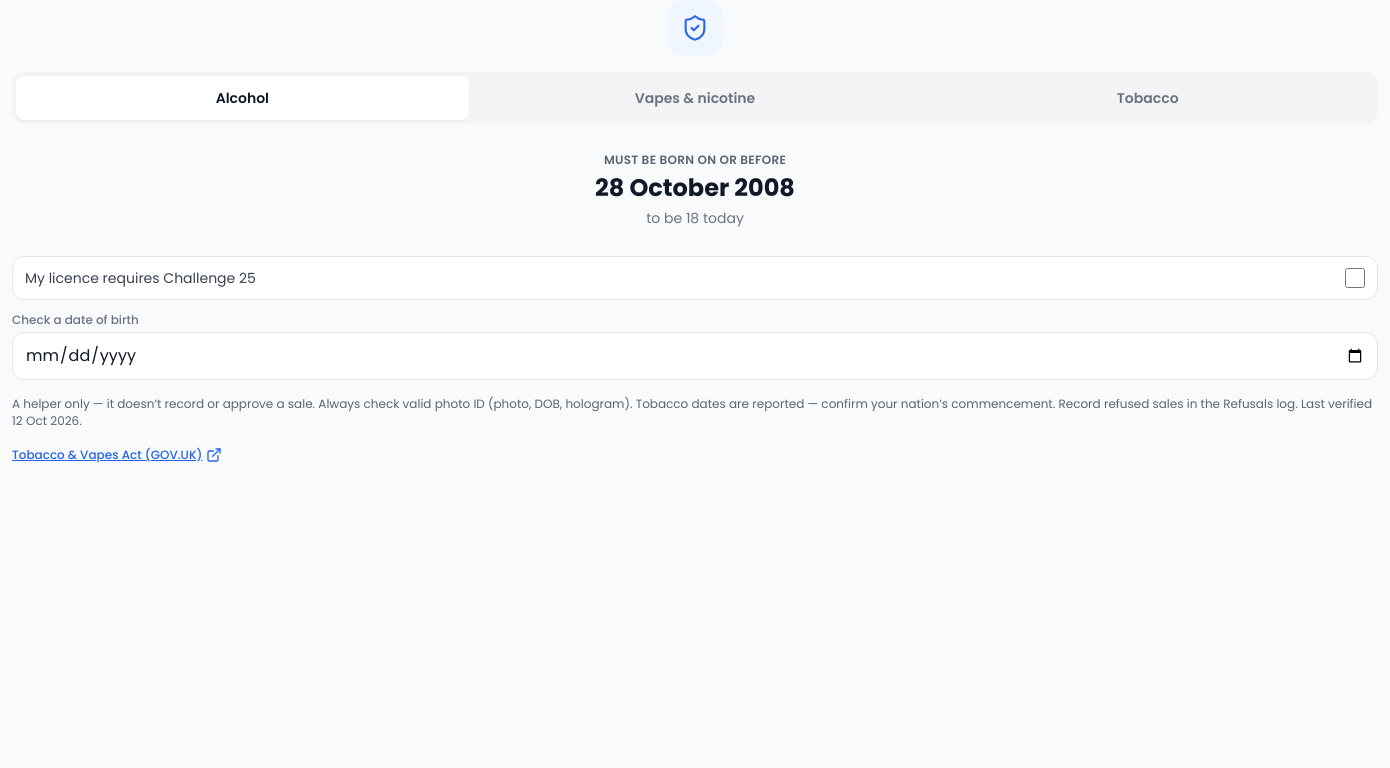
Test: AgeCheckHelper — audit: never a negative age; bound the date in the handler › flags an implausible age (>110) as "Check this date"
This screenshot has width=1390, height=768.
Type "1890-01-01" into the date field labelled "Check a date of birth" at (695, 356), box [12, 332, 1378, 380]
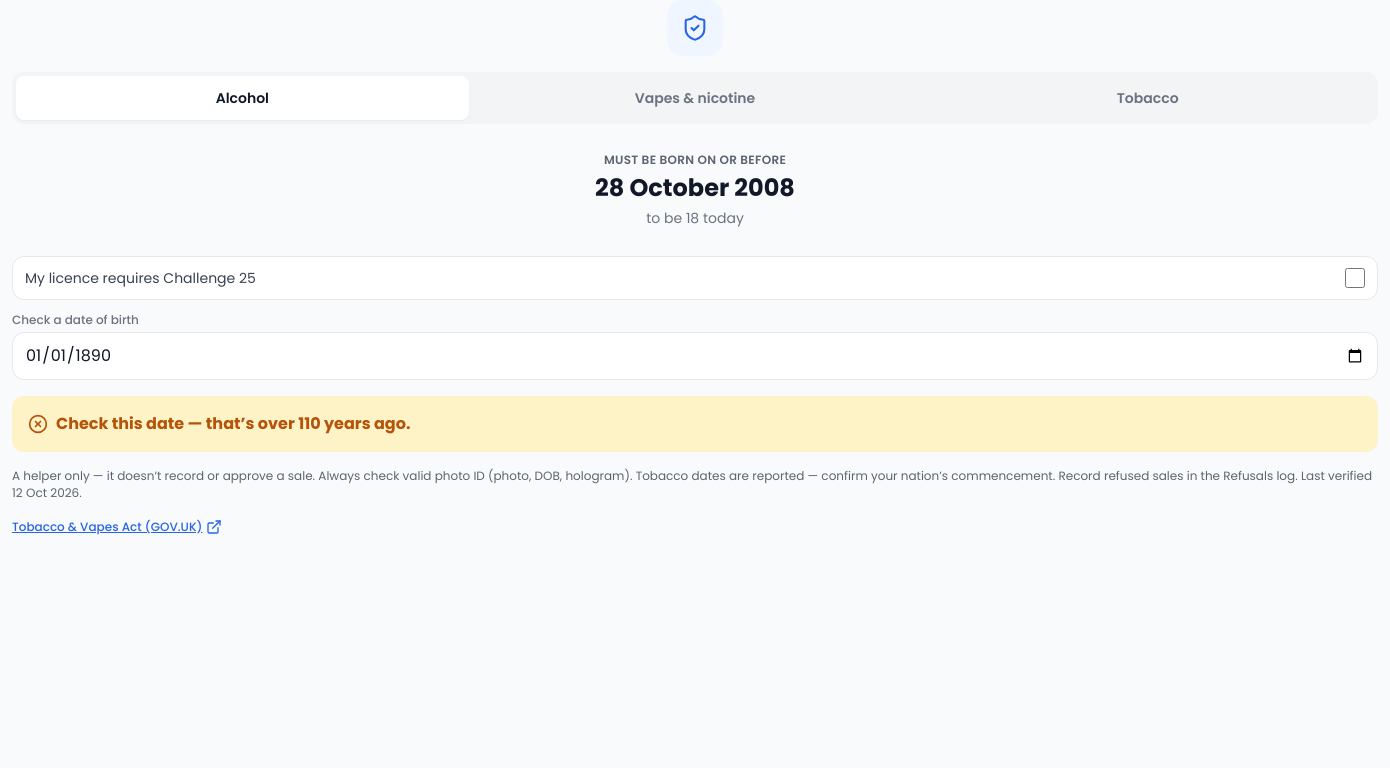
Check: the text "Check this date — that’s over 110 years ago." is shown, box [28, 412, 410, 435]
